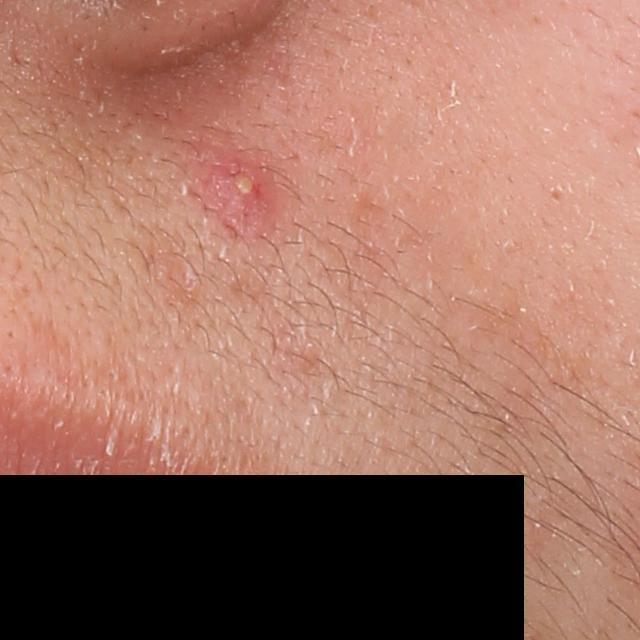comedo: (549, 184, 566, 201)
pustule: (223, 165, 260, 199)
